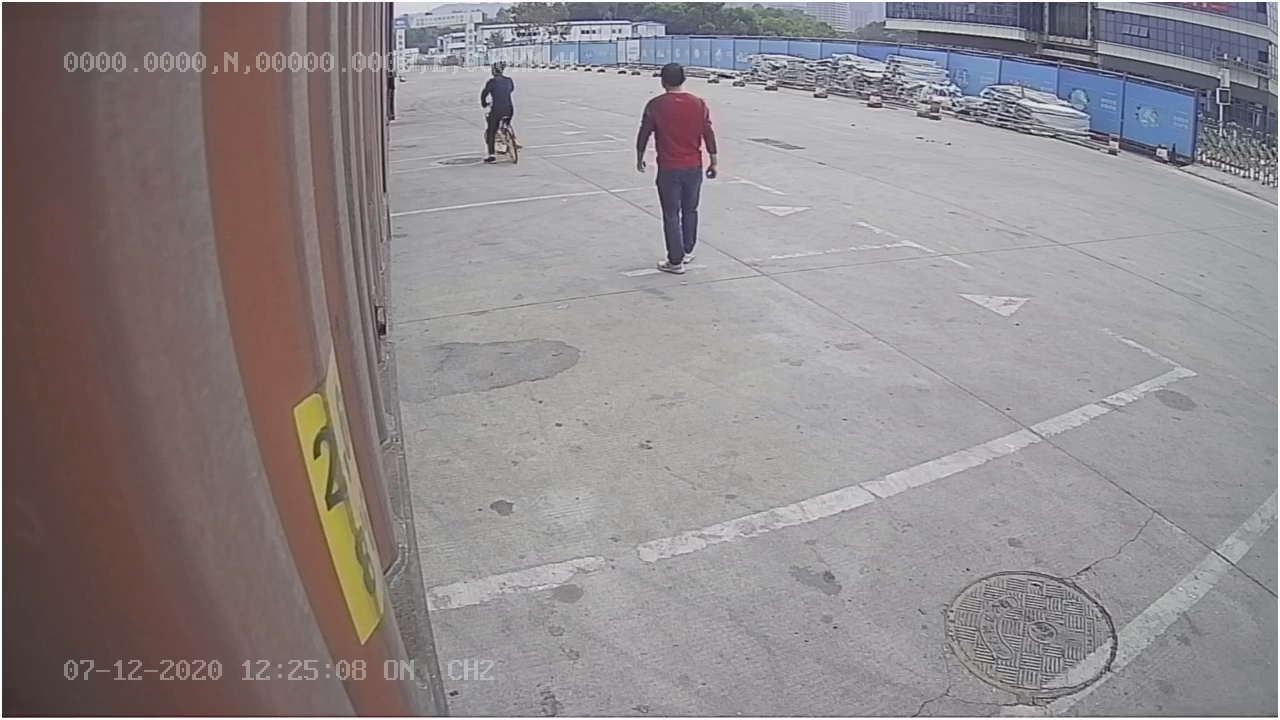person: (627, 58, 722, 276)
